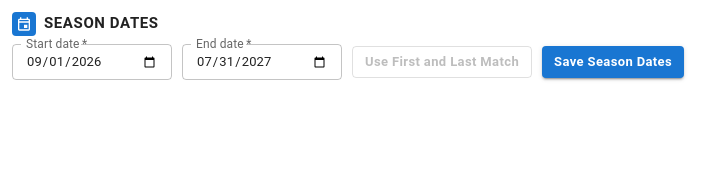
Test: LeagueSeasonDatesBlock (docs/specs/111) › shows the 409 message verbatim
This screenshot has width=702, height=172.
Expected: the date field labelled "Start date *" holds "2026-09-01", [12,46,172,78]
Type "2027-01-01" into the date field labelled "End date *".
click(262, 62); type("2027-01-01")  # box [182,46,342,78]
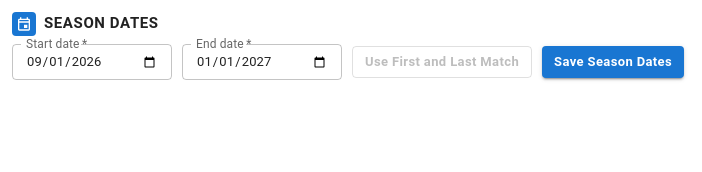
Click the button "Save Season Dates".
click(613, 62)  # box [542,46,684,78]
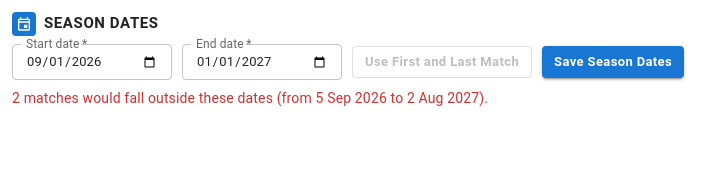
Now the message reads "2 matches would fall outside these dates (from 5 Sep 2026 to 2 Aug 2027).", box [12,90,488,106]
